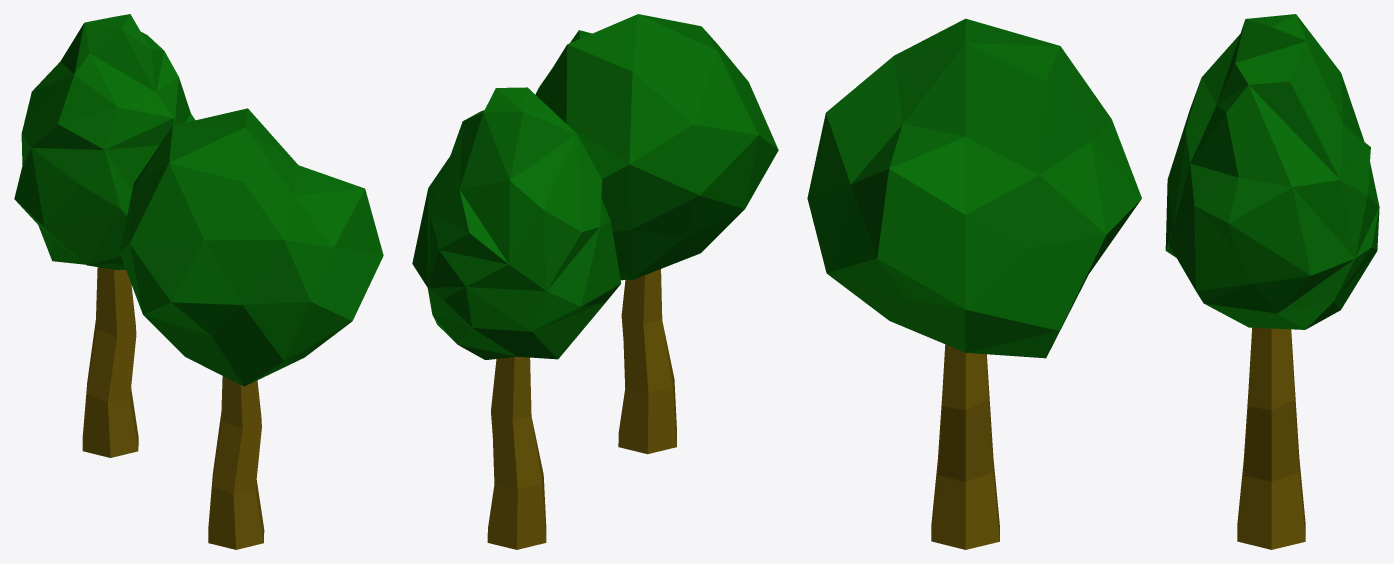
Rendered from Tree 002.fbx.
3 renders of one model, left to right at view 1: azimuth 30°, elevation 25°; view 2: azimuth 150°, elevation 25°; view 3: azimuth 270°, elevation 25°, orthographic. The views are drawn at different scales.
Visible parts, largest first — view 1: Tree_002_group2pPlatonic1, Tree_002_pCube1group1, Tree_002_group1pCylinder1, Tree_002_pCylinder2group2; view 2: Tree_002_pCube1group1, Tree_002_group2pPlatonic1, Tree_002_group1pCylinder1, Tree_002_pCylinder2group2; view 3: Tree_002_group2pPlatonic1, Tree_002_pCube1group1, Tree_002_group1pCylinder1, Tree_002_pCylinder2group2.
Boxes of the visible parts, x1,y1,x2,y2 form: Tree_002_group2pPlatonic1: (119, 108, 383, 386); Tree_002_pCube1group1: (14, 14, 195, 269); Tree_002_group1pCylinder1: (82, 267, 138, 457); Tree_002_pCylinder2group2: (208, 376, 264, 549); Tree_002_pCube1group1: (412, 87, 621, 359); Tree_002_group2pPlatonic1: (535, 14, 778, 280); Tree_002_group1pCylinder1: (487, 356, 546, 549); Tree_002_pCylinder2group2: (618, 269, 676, 454); Tree_002_group2pPlatonic1: (807, 18, 1141, 358); Tree_002_pCube1group1: (1165, 14, 1379, 329); Tree_002_group1pCylinder1: (1237, 327, 1305, 549); Tree_002_pCylinder2group2: (931, 344, 999, 549).
Size of the model in its own units: 5.16 by 9.24 by 9.25.
